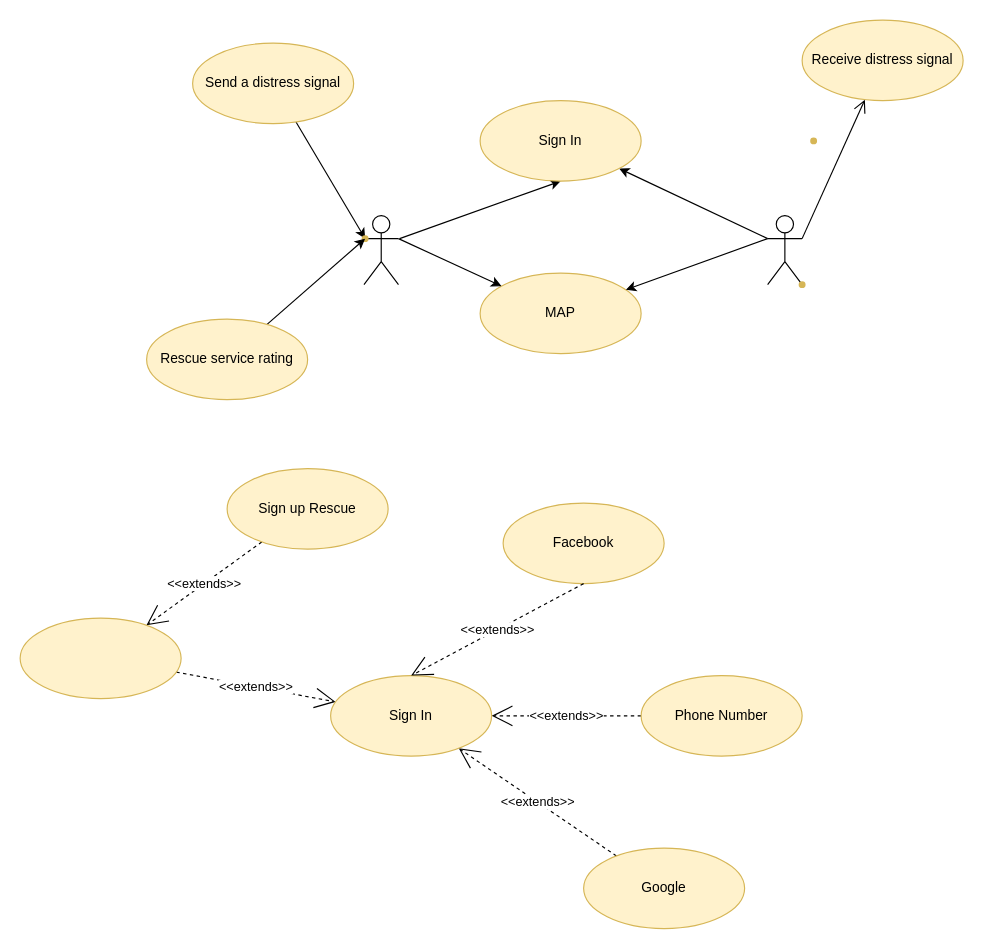
Some shapes in this 983 by 949 pixel diagram are drawn without their labels. The box of each missing label's shape, as (x1, y1, x2, y2) in pixels:
Normal User: (363, 214, 398, 285)
Rescue service: (766, 214, 802, 285)
Sign up Info: (19, 617, 181, 699)
